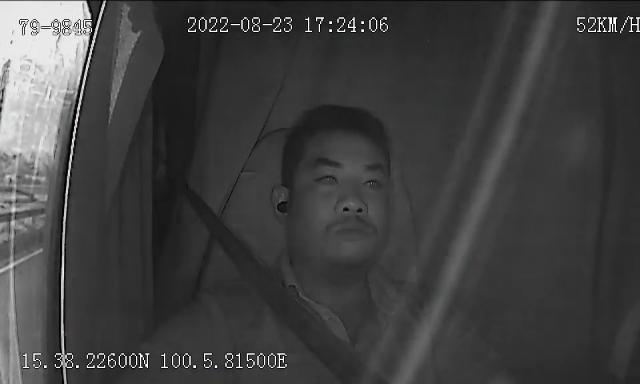SafeDriving: (310, 160, 344, 194), (356, 166, 391, 196)
Seatbelt: (187, 190, 386, 384)
